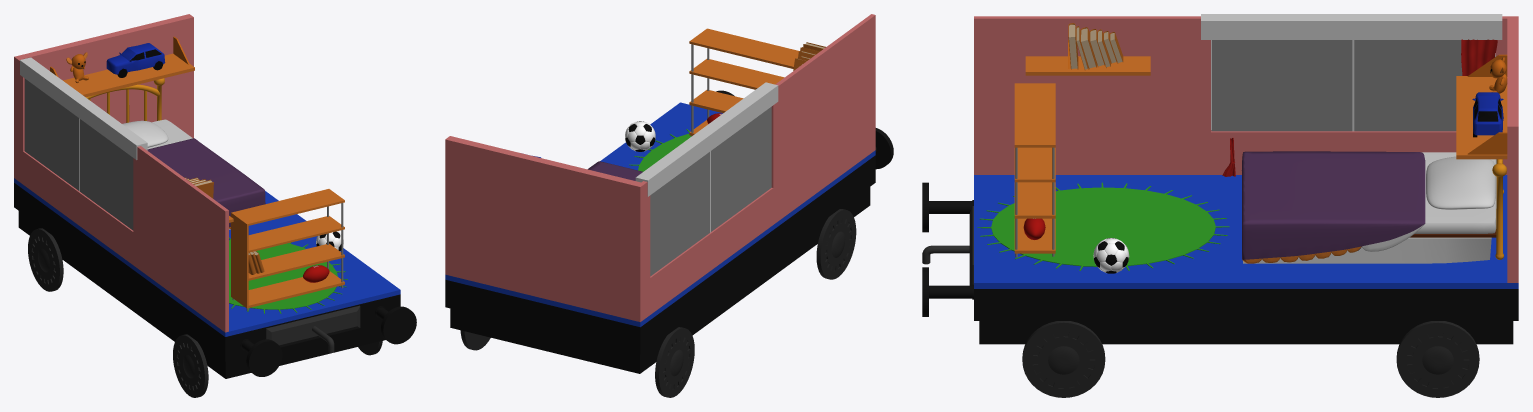
File: Bedroom_29-09-2016.FBX
3 views of the same model, side by side, from view 1: azimuth 30°, elevation 25°; view 2: azimuth 150°, elevation 25°; view 3: azimuth 270°, elevation 25° (orthographic). The views are drawn at different scales.
Parts seen in each view (by area): view 1: obj_bedroom_windowwall, obj_bedroom_backwall, obj_bookshelf, obj_carriageupper, obj_bedroom_floor, obj_carriagelower, obj_windowpane_02, obj_windowpane_01, obj_bedsheets, obj_windowframe_01, obj_carpet, obj_shelf_02 (+11 smaller); view 2: obj_bedroom_backwall, obj_bedroom_windowwall, obj_carriageupper, obj_carriagelower, obj_windowpane_01, obj_windowpane_02, obj_bedroom_floor, obj_bookshelf, obj_windowframe_01, obj_smallwheelfront_r, obj_smallwheelrear_r, obj_soccerball (+4 smaller); view 3: obj_bedroom_windowwall, obj_bedroom_floor, obj_bedsheets, obj_carriageupper, obj_windowpane_01, obj_carpet, obj_carriagelower, obj_windowpane_02, obj_windowframe_01, obj_bookshelf, obj_smallwheelfront_l, obj_smallwheelrear_l (+13 smaller).
Boxes of the visible parts, x1,y1,x2,y2 form: obj_bedroom_windowwall: (18, 59, 228, 332); obj_bedroom_backwall: (14, 14, 193, 180); obj_bookshelf: (231, 189, 344, 308); obj_carriageupper: (14, 183, 400, 361); obj_bedroom_floor: (14, 178, 400, 336); obj_carriagelower: (18, 211, 385, 378); obj_windowpane_02: (24, 78, 78, 190); obj_windowpane_01: (80, 119, 133, 230); obj_bedsheets: (147, 138, 265, 228); obj_windowframe_01: (20, 57, 147, 159); obj_carpet: (229, 237, 347, 313); obj_shelf_02: (63, 53, 194, 97); obj_bedroom_backwall: (445, 136, 645, 321); obj_bedroom_windowwall: (641, 14, 875, 318); obj_carriageupper: (445, 155, 875, 354); obj_carriagelower: (450, 187, 870, 373); obj_windowpane_01: (711, 107, 771, 231); obj_windowpane_02: (650, 152, 709, 276); obj_bedroom_floor: (445, 102, 875, 327); obj_bookshelf: (689, 28, 799, 135); obj_windowframe_01: (635, 82, 778, 196); obj_smallwheelfront_r: (816, 209, 856, 279); obj_smallwheelrear_r: (655, 327, 694, 397); obj_soccerball: (625, 121, 655, 151); obj_bedroom_windowwall: (974, 16, 1507, 174); obj_bedroom_floor: (974, 175, 1518, 288); obj_bedsheets: (1241, 151, 1425, 263); obj_carriageupper: (974, 289, 1518, 320); obj_windowpane_01: (1211, 40, 1352, 131); obj_carpet: (977, 182, 1229, 270); obj_carriagelower: (979, 321, 1513, 344); obj_windowpane_02: (1354, 40, 1495, 131); obj_windowframe_01: (1201, 14, 1502, 39); obj_bookshelf: (1014, 83, 1055, 253); obj_smallwheelfront_l: (1022, 321, 1105, 397); obj_smallwheelrear_l: (1396, 321, 1479, 397).
Bounding box in the file's own units: 21.28 × 23.69 × 47.03.
